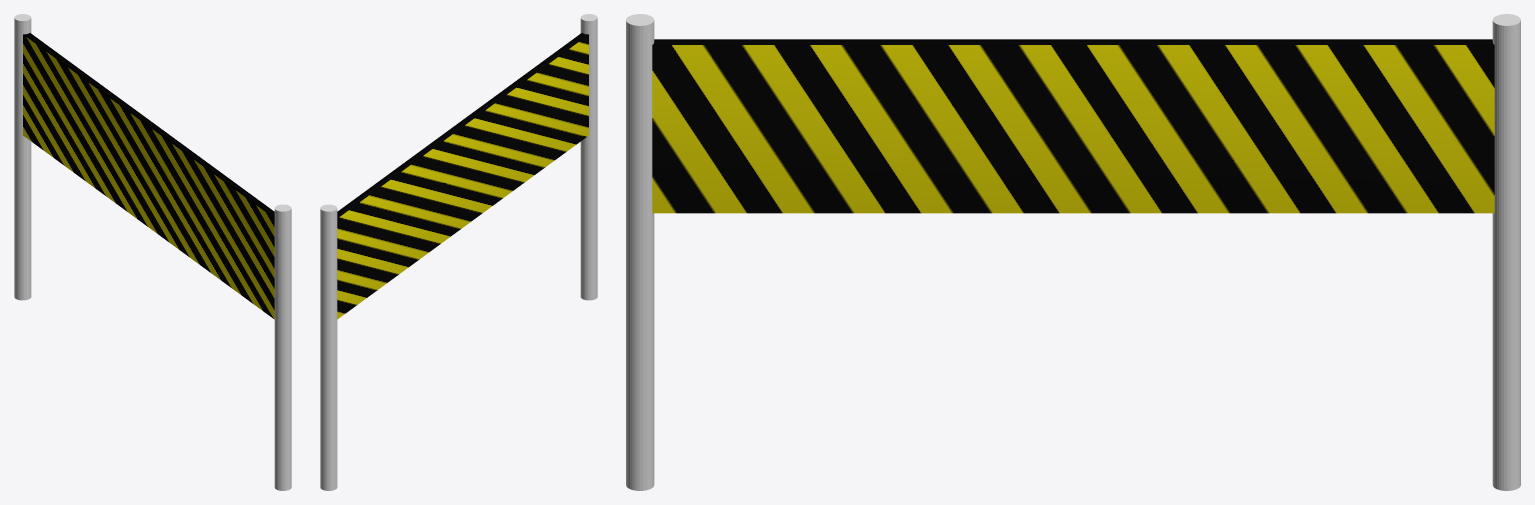
The model's file is flag.fbx.
3 views of the same model, side by side, from view 1: azimuth 30°, elevation 25°; view 2: azimuth 150°, elevation 25°; view 3: azimuth 270°, elevation 25° (orthographic). The views are drawn at different scales.
Parts seen in each view (by area): view 1: Cube, Cylinder; view 2: Cube, Cylinder; view 3: Cube, Cylinder.
Part boxes in pixels (x1,y1,x2,y2): Cube: (23,33,274,319); Cylinder: (14,14,291,490); Cube: (337,33,588,319); Cylinder: (320,14,597,490); Cube: (652,39,1494,213); Cylinder: (626,14,1520,490).
Size of the model in its own units: 52.18 by 950 by 1656.
